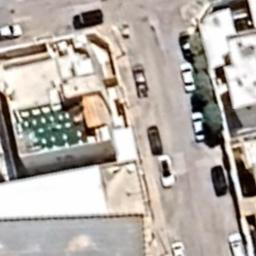sedan: (157, 154, 176, 188), (133, 62, 150, 98), (179, 62, 196, 93), (191, 112, 206, 142), (0, 23, 24, 41), (228, 233, 246, 256), (169, 241, 187, 256)
unknown: (210, 166, 228, 196), (147, 124, 164, 155)
van: (72, 8, 105, 30)
